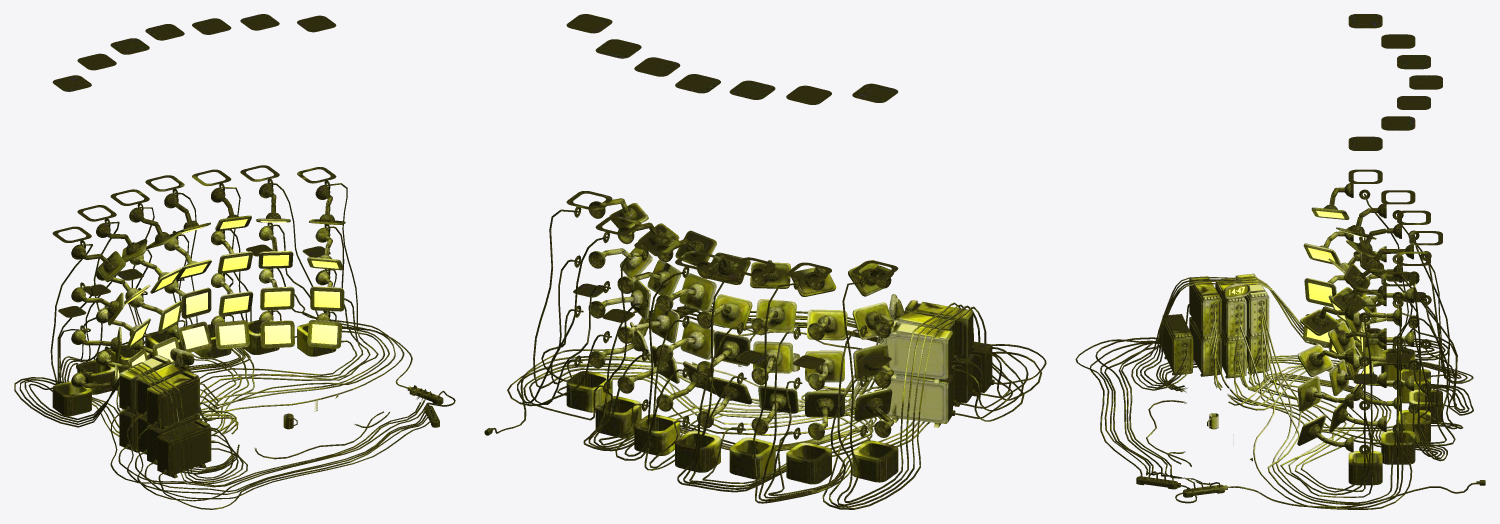
Rendered from surveillance_room.glb.
3 views of the same model, side by side, from view 1: azimuth 30°, elevation 25°; view 2: azimuth 150°, elevation 25°; view 3: azimuth 270°, elevation 25° (orthographic). The views are drawn at different scales.
Visible parts, largest first — view 1: BezierCurve.002_2, BezierCurve.001_1, BezierCurve.004_4, BezierCurve.003_3; view 2: BezierCurve.002_2, BezierCurve.001_1, BezierCurve.004_4; view 3: BezierCurve.001_1, BezierCurve.002_2, BezierCurve.004_4, BezierCurve.003_3.
Part boxes in pixels (left/top/right/bottom): BezierCurve.002_2: left=52, top=14, right=345, bottom=416; BezierCurve.001_1: left=14, top=179, right=455, bottom=509; BezierCurve.004_4: left=119, top=348, right=443, bottom=478; BezierCurve.003_3: left=117, top=219, right=340, bottom=379; BezierCurve.002_2: left=484, top=14, right=898, bottom=484; BezierCurve.001_1: left=493, top=201, right=1046, bottom=509; BezierCurve.004_4: left=638, top=294, right=994, bottom=427; BezierCurve.001_1: left=1075, top=183, right=1476, bottom=509; BezierCurve.002_2: left=1297, top=14, right=1485, bottom=485; BezierCurve.004_4: left=1136, top=273, right=1269, bottom=497; BezierCurve.003_3: left=1229, top=211, right=1369, bottom=386.
Size of what is drawn, in the model's own units: 6.52 by 5.84 by 6.49.
3 materials, 2 textured.
